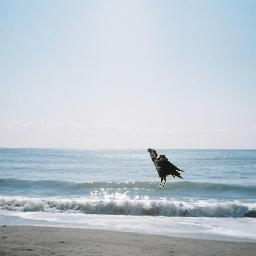Crow: (147, 148, 185, 188)
